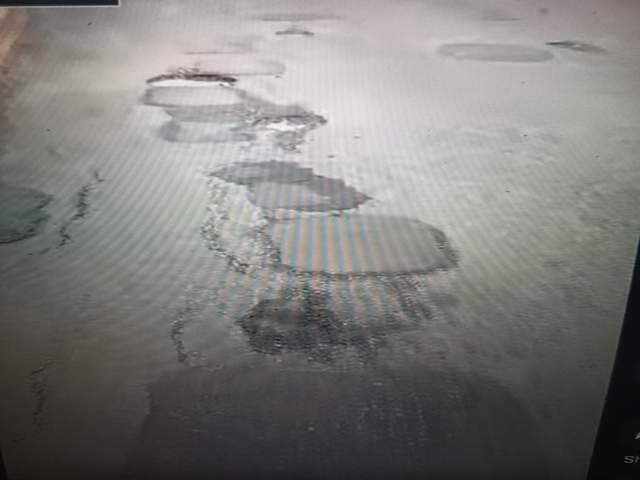pothole: (111, 403, 332, 480)
